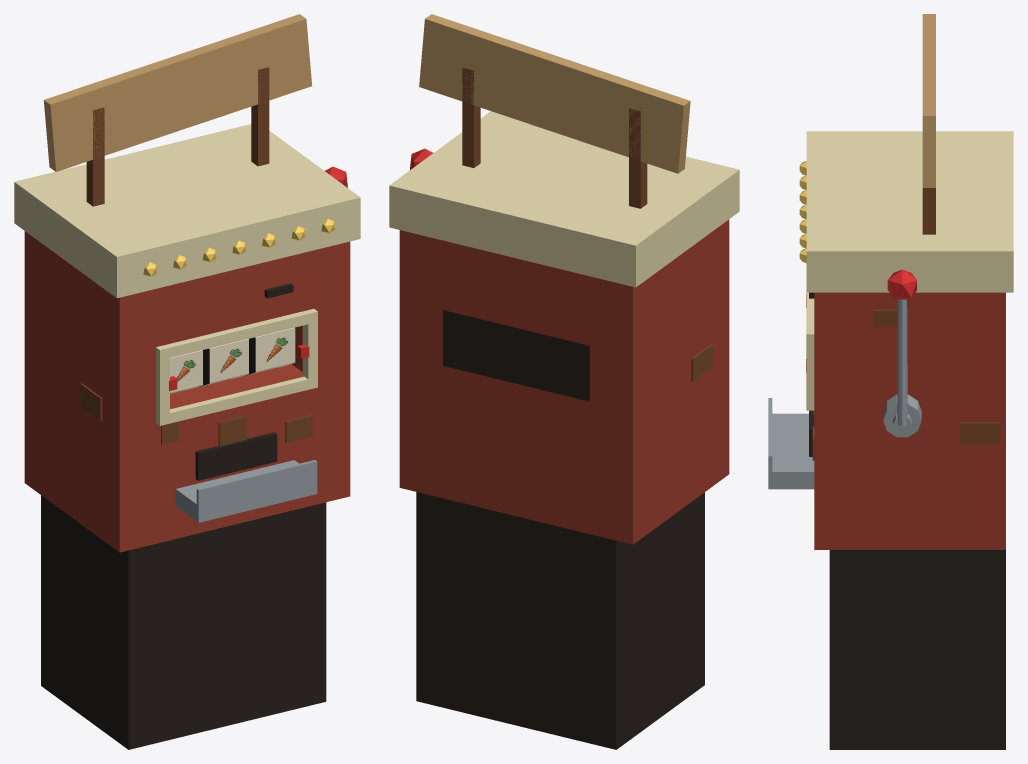
File: SlotMachine.fbx
The picture shows the model from 3 angles, left to right: view 1: azimuth 30°, elevation 25°; view 2: azimuth 150°, elevation 25°; view 3: azimuth 270°, elevation 25°; orthographic projection.
Parts seen in each view (by area): view 1: SlotMachine, Reel_2, Reel_1, Reel_0; view 2: SlotMachine; view 3: SlotMachine, Lever.
Boxes of the visible parts, box(x1,y1,x2,y2) form: SlotMachine: box(14, 14, 360, 749); Reel_2: box(246, 327, 295, 375); Reel_1: box(199, 339, 248, 386); Reel_0: box(170, 350, 202, 393); SlotMachine: box(389, 14, 739, 749); SlotMachine: box(768, 14, 1013, 749); Lever: box(887, 269, 916, 433).
Size of the model in its own units: 0.8675 by 1.86 by 0.64.
9 materials, 1 textured.
